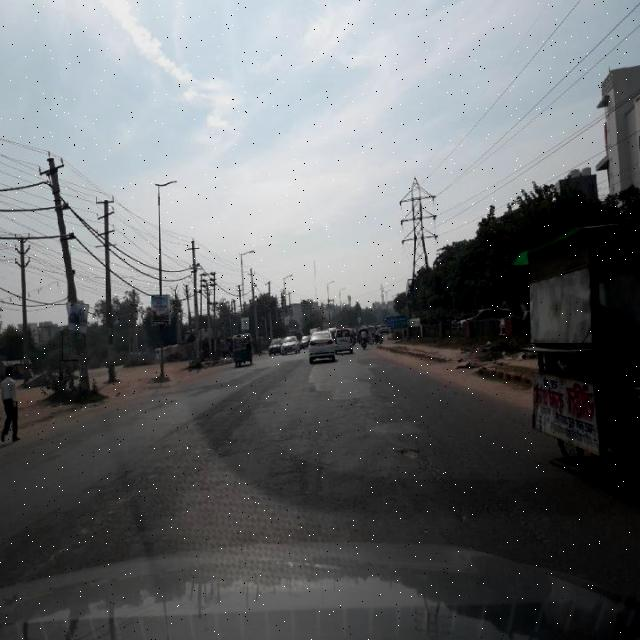D40: (393, 440, 431, 461)
